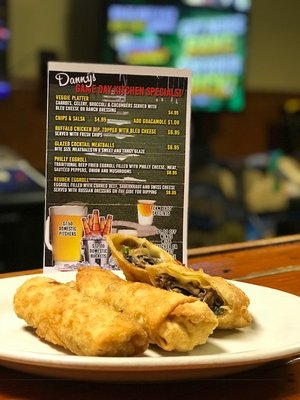pizza: (136, 200, 156, 225)
